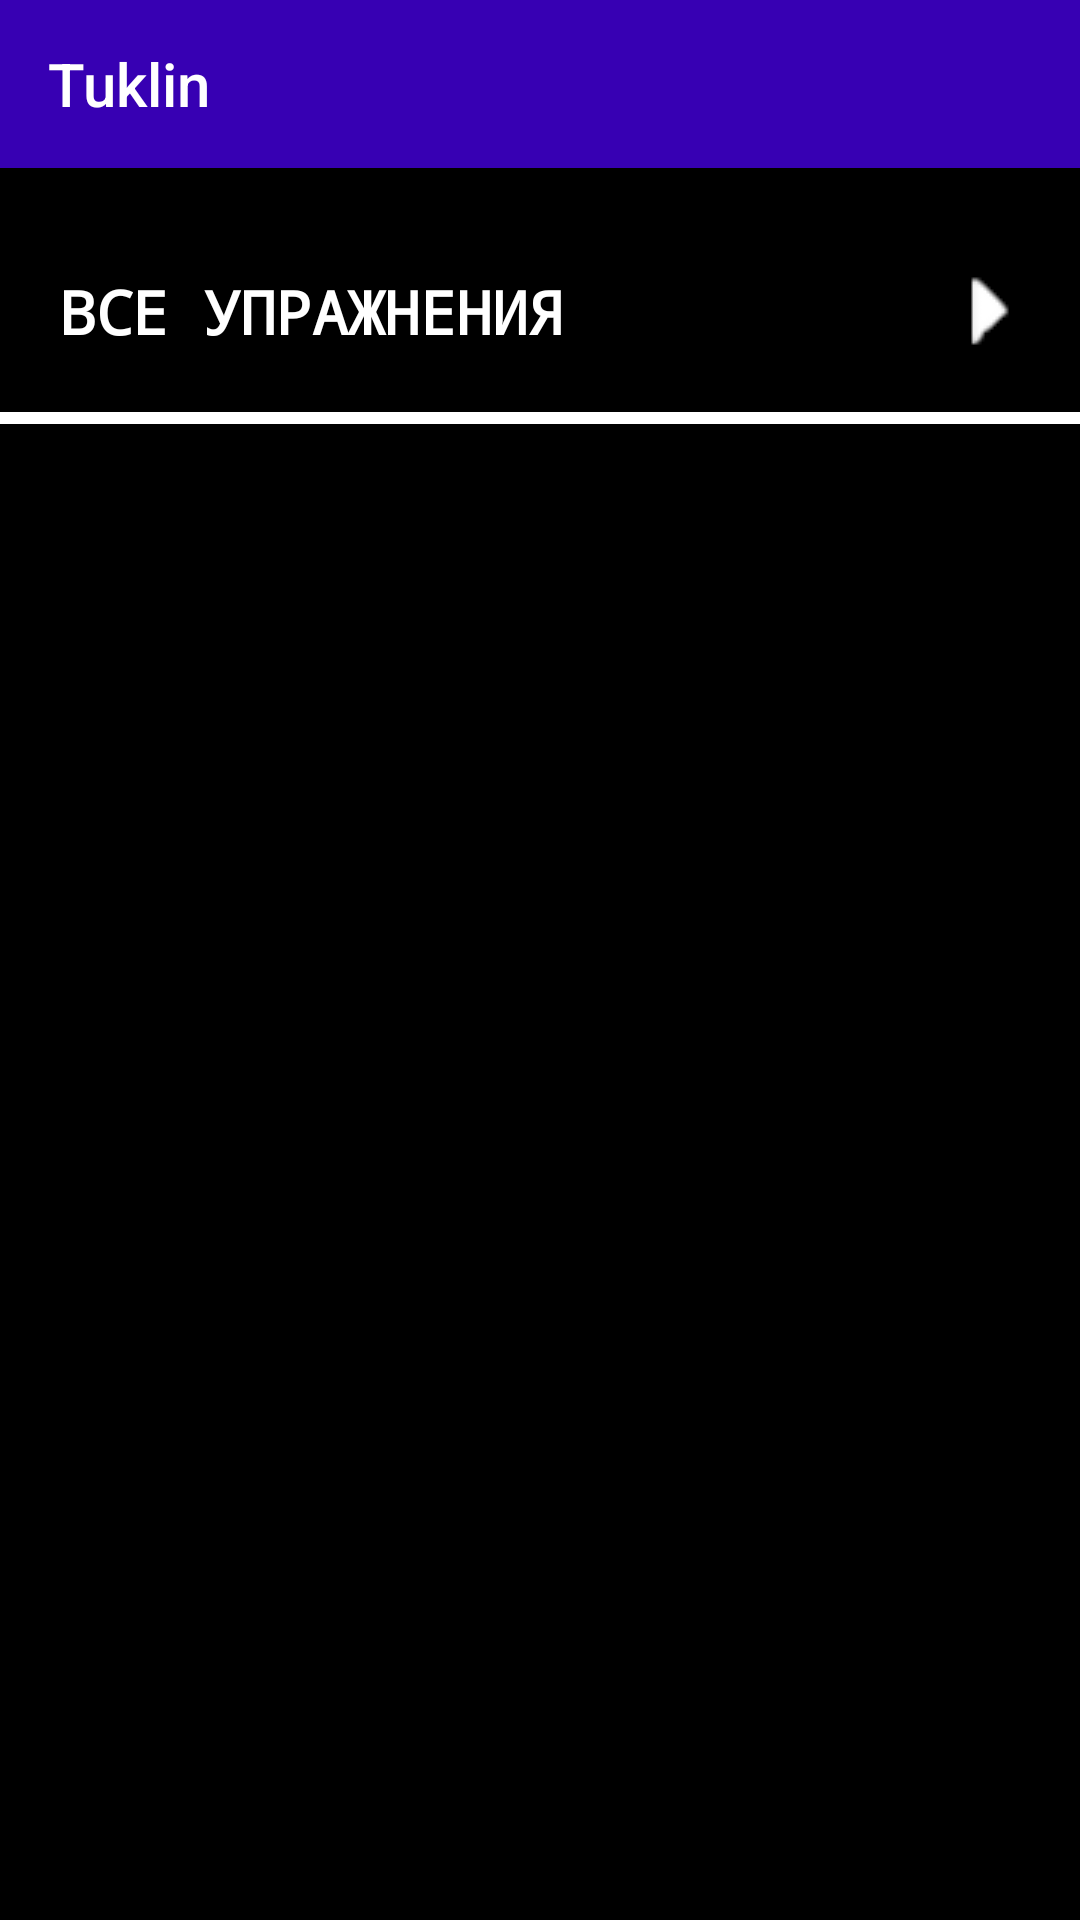

Where to tap for icons on this 1080 × 1920 app screen, as point (x, y):
right arrow: point (990, 311)
